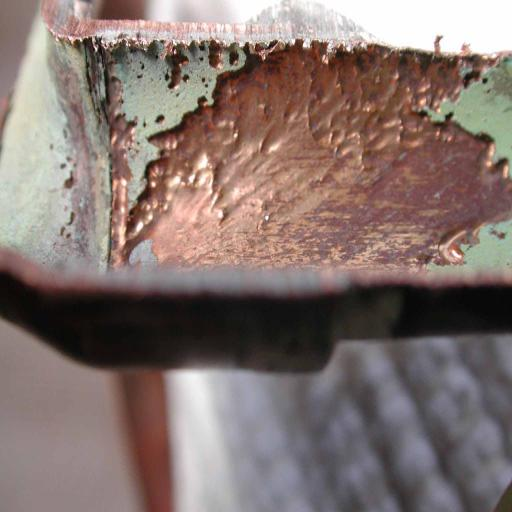segmentation: (83, 36, 512, 267), (141, 127, 512, 267)
